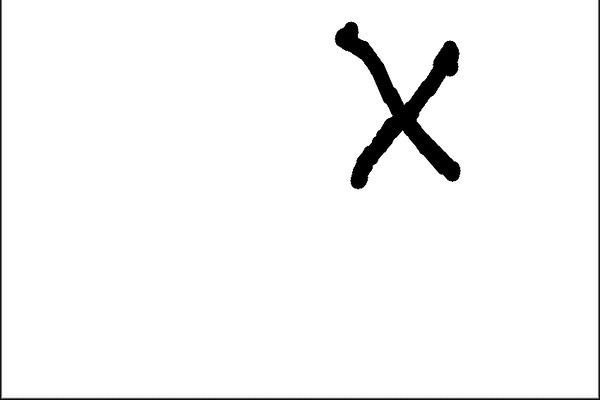X: (315, 10, 496, 199)
